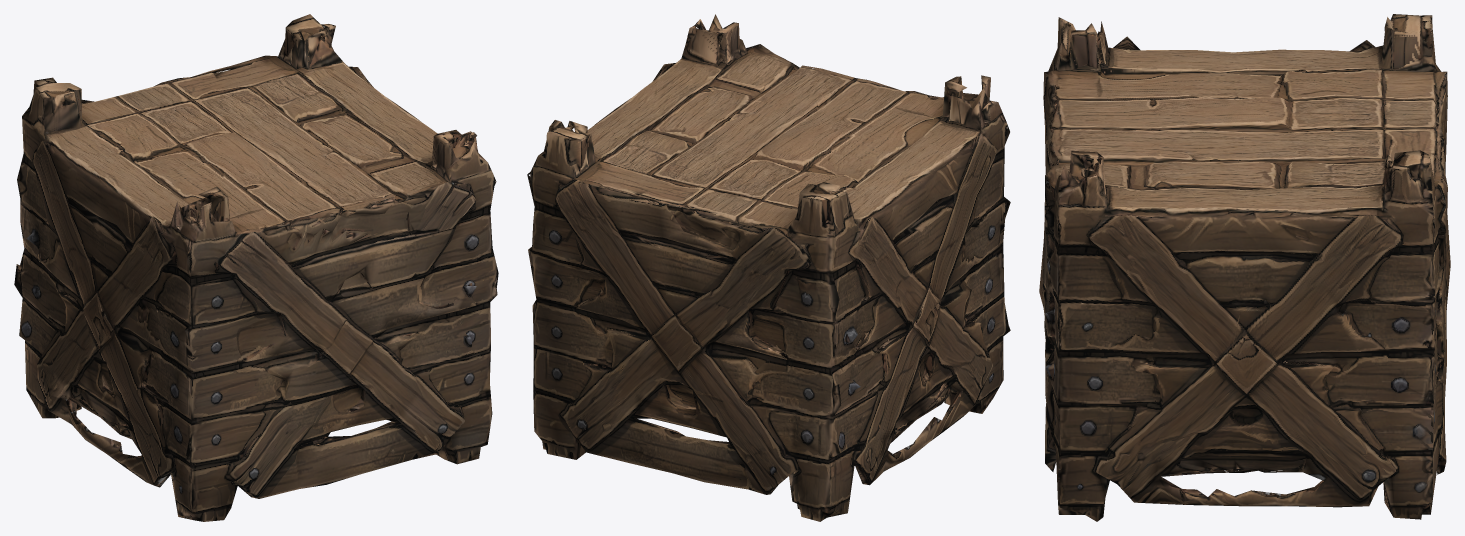
Rendered from Prop_Barricade.fbx.
3 renders of one model, left to right at view 1: azimuth 30°, elevation 25°; view 2: azimuth 150°, elevation 25°; view 3: azimuth 270°, elevation 25°, orthographic. The views are drawn at different scales.
Parts seen in each view (by area): view 1: texture_mapping; view 2: texture_mapping; view 3: texture_mapping.
Part boxes in pixels (x1=…): texture_mapping: x1=14, y1=14, x2=498, y2=521; texture_mapping: x1=527, y1=14, x2=1010, y2=521; texture_mapping: x1=1039, y1=14, x2=1450, y2=521.
Size of the model in its own units: 0.9524 by 0.9481 by 0.9041.
1 material, 1 textured.
